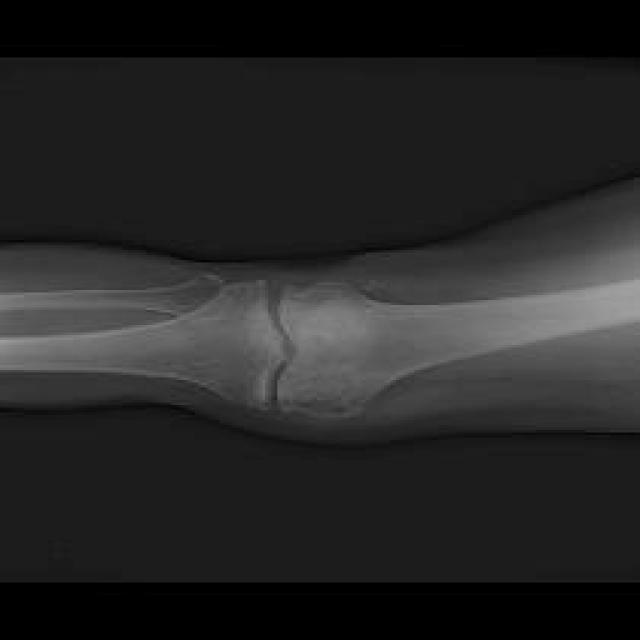normal: (279, 277, 637, 413), (1, 273, 288, 405)
